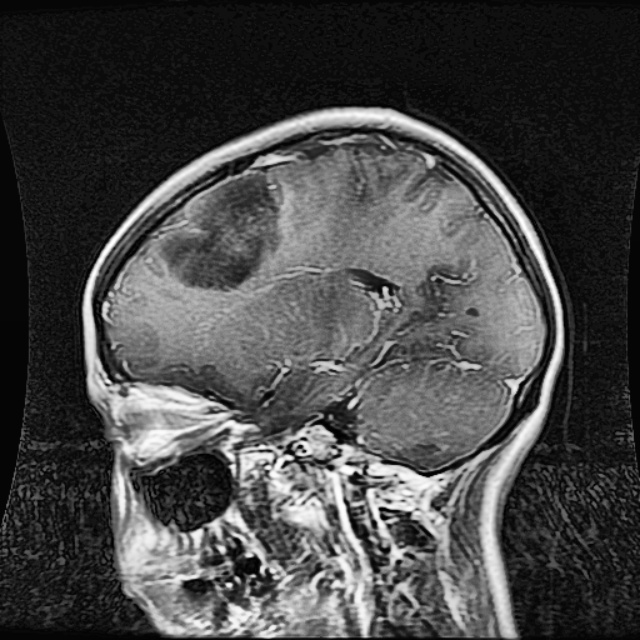Meningioma: (158, 174, 282, 284)
